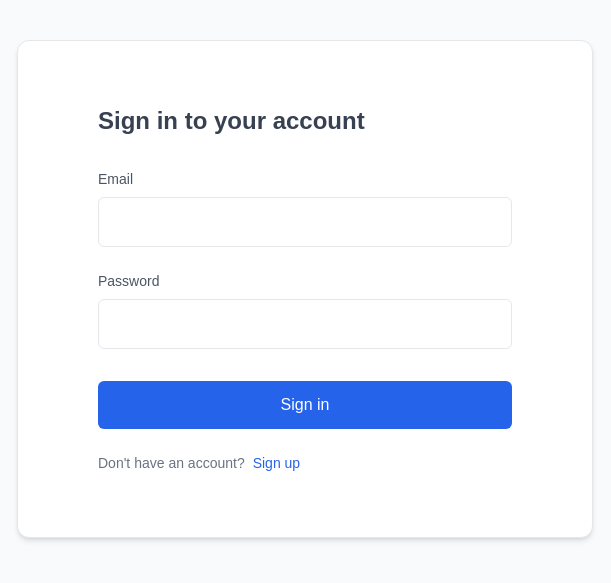
Sign in/up form unauthenticated tests › should display error message when submitting empty signin form
Step 1. Click the submit button → (305, 405), box left=98, top=381, right=512, bottom=429
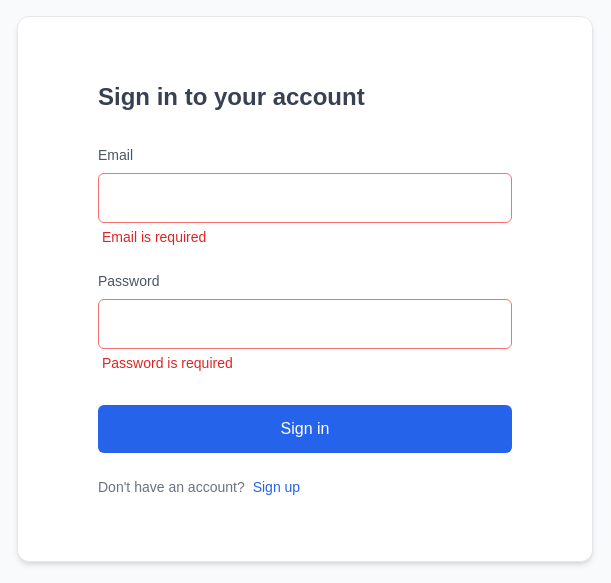
Expected: the text "Email is required" is shown, left=102, top=229, right=206, bottom=245
Expected: the text "Password is required" is shown, left=102, top=355, right=233, bottom=371
